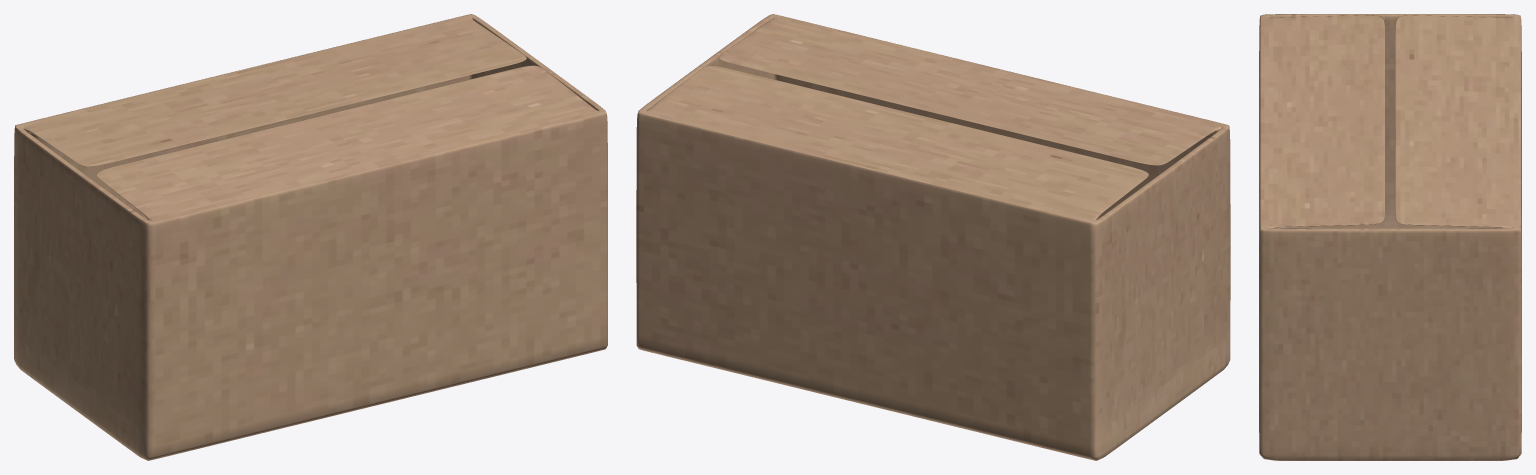
Rendered from CardBoardBox3.fbx.
The picture shows the model from 3 angles, left to right: view 1: azimuth 30°, elevation 25°; view 2: azimuth 150°, elevation 25°; view 3: azimuth 270°, elevation 25°; orthographic projection. The views are drawn at different scales.
Parts seen in each view (by area): view 1: Cardboard_Box1; view 2: Cardboard_Box1; view 3: Cardboard_Box1.
Part boxes in pixels (bbox=[...]): Cardboard_Box1: bbox=[14, 14, 607, 460]; Cardboard_Box1: bbox=[636, 14, 1230, 460]; Cardboard_Box1: bbox=[1259, 14, 1521, 460].
Bounding box in the file's own units: 6.81 × 3.42 × 3.48.
Materials: 1 (1 with a texture image).
